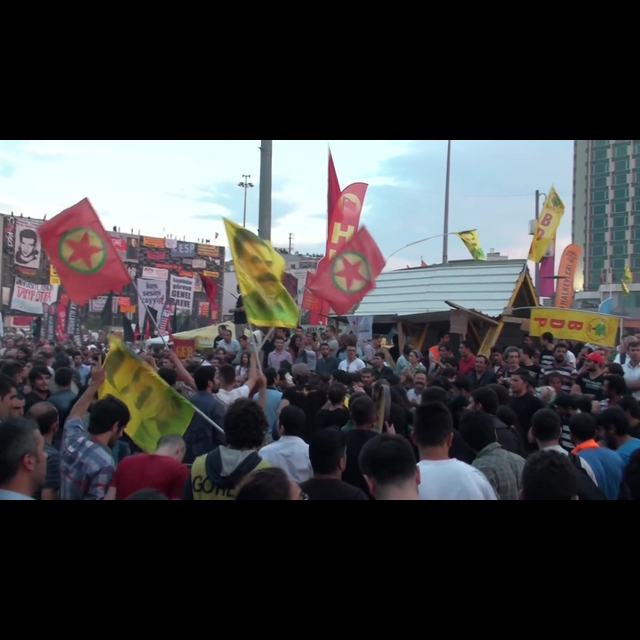APO: (104, 346, 161, 412), (234, 231, 279, 295)
PKK: (57, 226, 108, 278), (332, 248, 370, 295)
